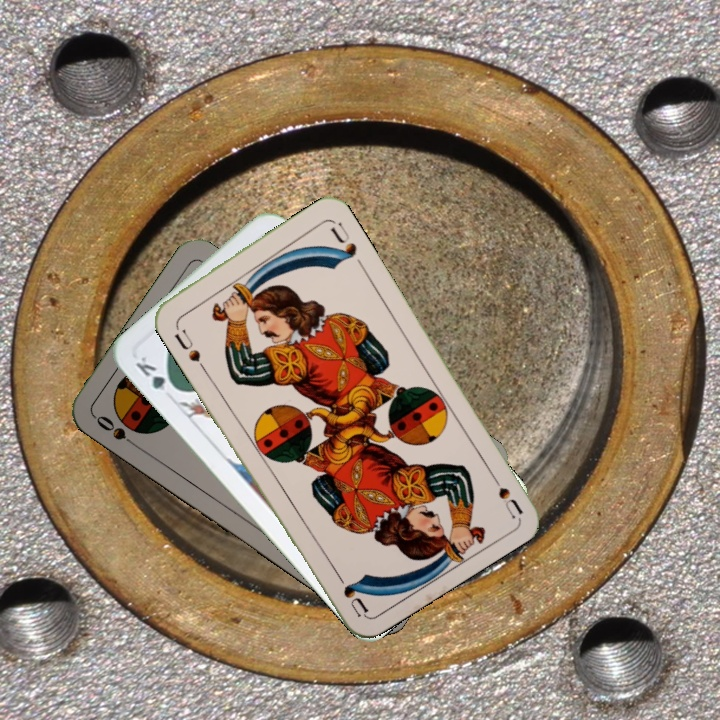GK: (131, 351, 181, 395)
SO: (91, 411, 142, 452)
SU: (484, 464, 525, 520), (170, 325, 204, 365)
